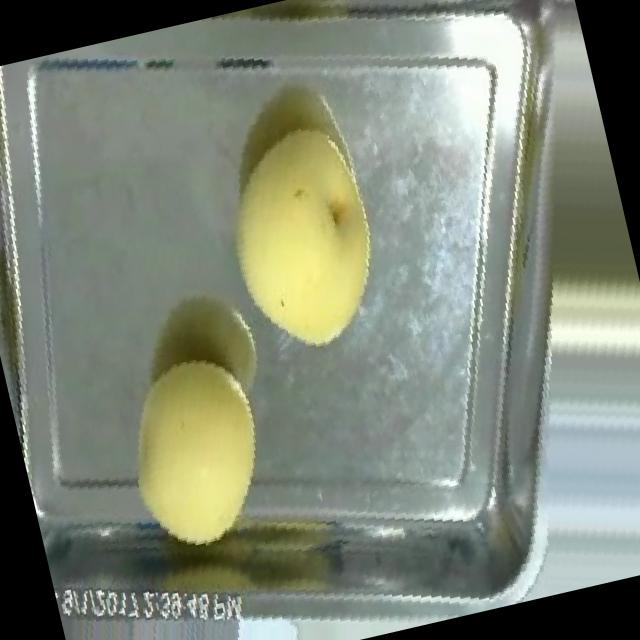Fruit: (185, 91, 430, 386), (88, 328, 301, 578)
